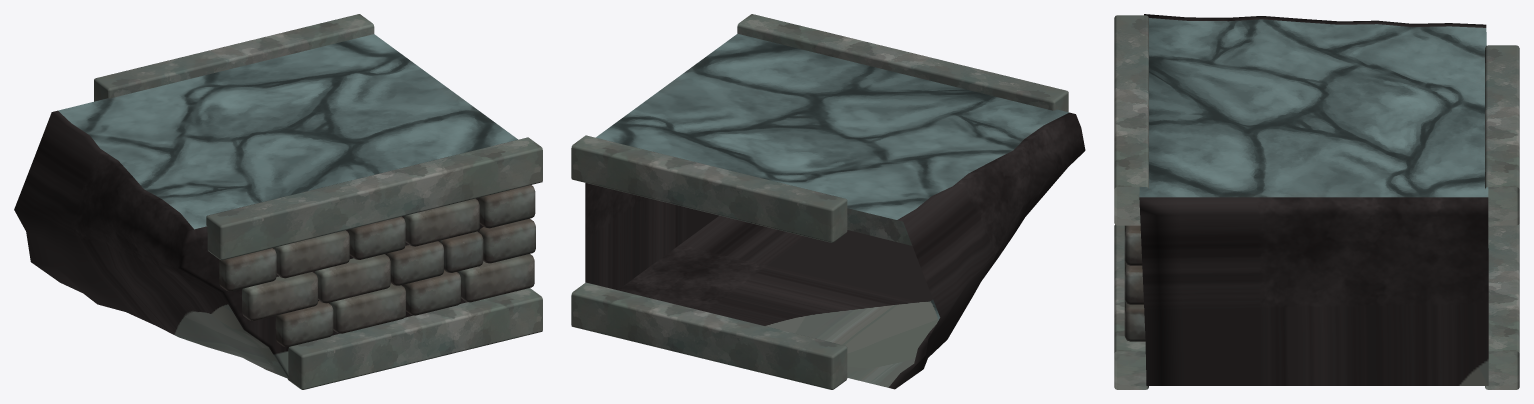
File: Broken_Bridge_LSideFlippedUVV3.fbx
The picture shows the model from 3 angles, left to right: view 1: azimuth 30°, elevation 25°; view 2: azimuth 150°, elevation 25°; view 3: azimuth 270°, elevation 25°; orthographic projection. The views are drawn at different scales.
Parts seen in each view (by area): view 1: BridgeLeftSideChipped; view 2: BridgeLeftSideChipped; view 3: BridgeLeftSideChipped.
Boxes of the visible parts, x1=… form: BridgeLeftSideChipped: x1=14, y1=14, x2=542, y2=389; BridgeLeftSideChipped: x1=571, y1=14, x2=1085, y2=389; BridgeLeftSideChipped: x1=1114, y1=14, x2=1519, y2=389.
Size of the model in its own units: 8.92 by 4.36 by 7.89.
